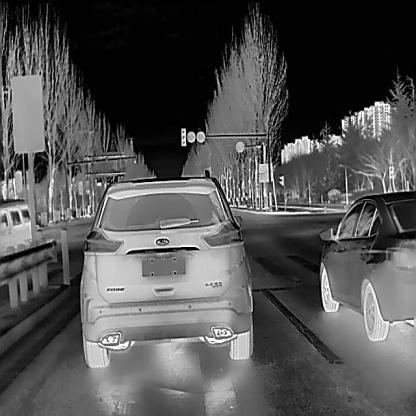car: (78, 168, 253, 368), (318, 188, 415, 341), (0, 197, 38, 272)
